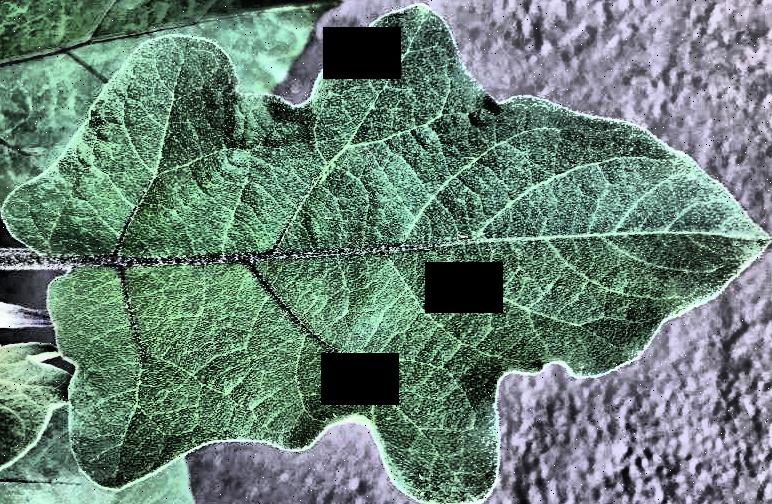HEALTHY: (0, 1, 772, 504)
